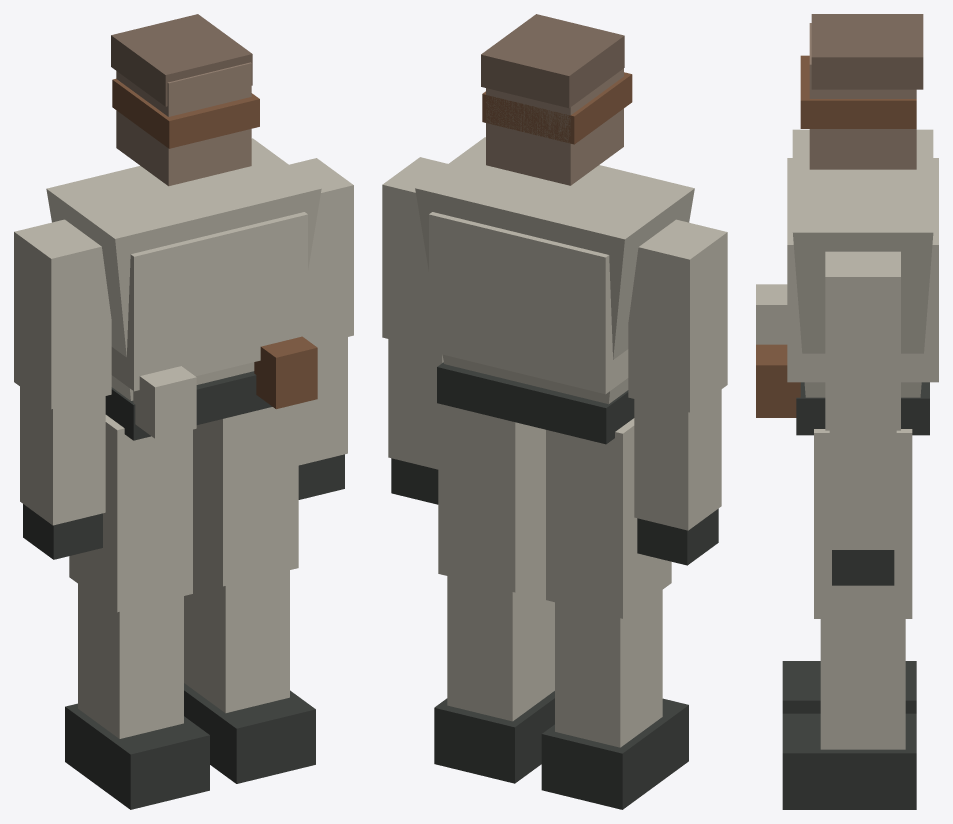
File: soldier_prisoner.glb
3 renders of one model, left to right at view 1: azimuth 30°, elevation 25°; view 2: azimuth 150°, elevation 25°; view 3: azimuth 270°, elevation 25°, orthographic. The views are drawn at different scales.
Visible parts, largest first — view 1: carrier, chest, thighL, thighR, upperarmR, shinR, shinL, forearmR, bootR, skull, bootL, upperarmL (+8 smaller); view 2: carrier, chest, thighL, thighR, upperarmR, shinR, shinL, forearmR, bootR, hair, skull, belt (+6 smaller); view 3: chest, upperarmL, shinL, bootL, thighL, hair, forearmL, carrier, skull, blindfold, pouch_l, bootR (+3 smaller).
Boxes of the visible parts, box(x1,y1,x2,y2) form: carrier: box(111, 212, 307, 391); chest: box(46, 138, 321, 400); thighL: box(193, 404, 298, 586); thighR: box(69, 415, 192, 612); upperarmR: box(14, 219, 111, 409); shinR: box(78, 584, 183, 738); shinL: box(184, 564, 289, 713); forearmR: box(20, 387, 105, 525); bootR: box(65, 703, 209, 809); skull: box(116, 62, 251, 186); bootL: box(184, 683, 315, 783); upperarmL: box(289, 158, 353, 344); carrier: box(429, 212, 628, 394); chest: box(415, 137, 694, 404); thighL: box(438, 403, 545, 592); thighR: box(546, 418, 671, 618); upperarmR: box(628, 219, 727, 412); shinR: box(555, 590, 662, 747); shinL: box(447, 570, 554, 721); forearmR: box(634, 389, 721, 530); bootR: box(541, 698, 688, 809); hair: box(481, 14, 624, 108); skull: box(486, 68, 623, 185); belt: box(437, 362, 634, 444); chest: box(792, 129, 933, 397); upperarmL: box(825, 251, 900, 430); shinL: box(820, 619, 905, 749); bootL: box(782, 713, 916, 809); thighL: box(814, 429, 912, 618); hair: box(811, 14, 923, 89); forearmL: box(829, 430, 896, 549); carrier: box(787, 158, 938, 382); skull: box(809, 23, 916, 169); blindfold: box(800, 55, 916, 128); pouch_l: box(756, 344, 800, 417); bootR: box(782, 661, 916, 713).
Size of the model in its own units: 0.8 by 1.8 by 0.41.
